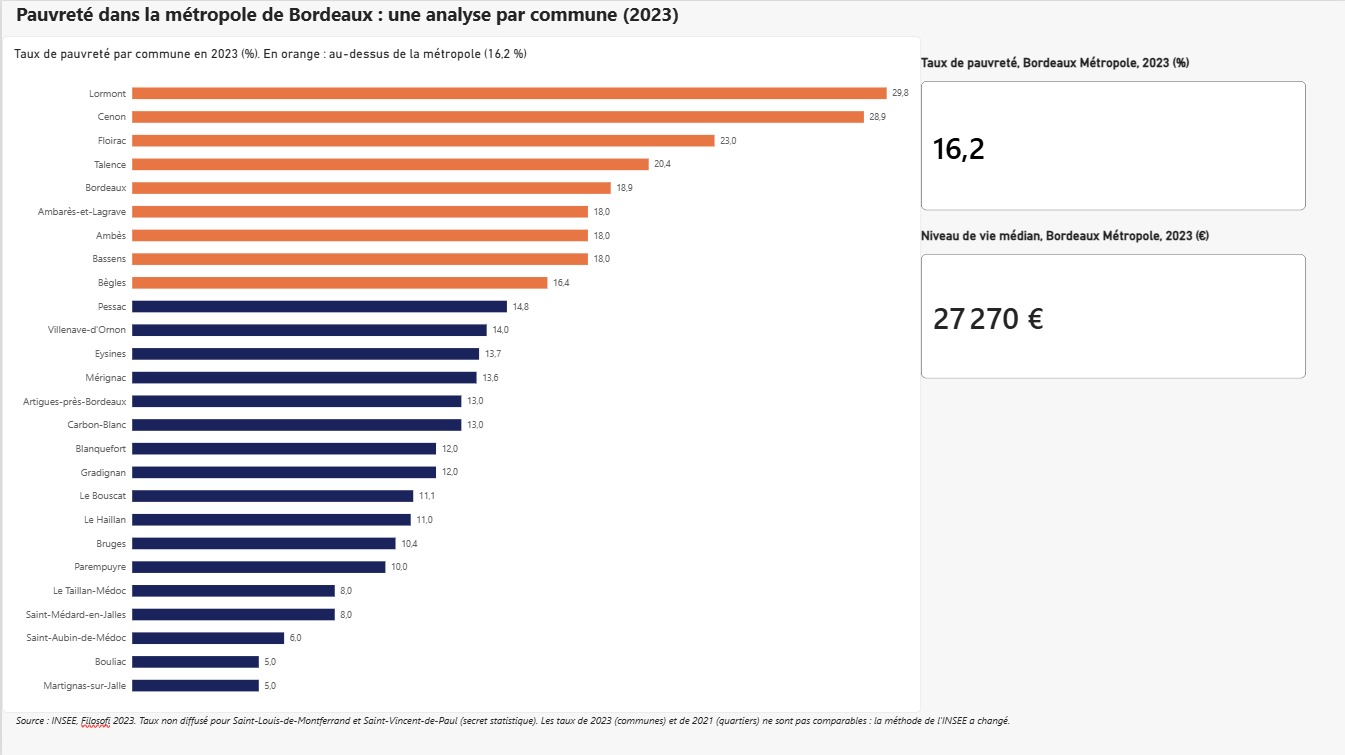

This screenshot's page, from the dashboard's own definition file:
{"tool":"powerbi","page":{"name":"vue d'ensemble","canvas":[1920,1080],"ordinal":0},"visuals":[{"type":"clusteredBarChart","title":"Taux de pauvreté par commune en 2023 (%). En orange : au-dessus de la métropole (16,2 %)","fields":{"Category":["Communes_2023.Commune"],"Y":["Communes_2023.Taux de pauvreté (%)"]},"box":[0,50,1312.9,967.1],"z":0},{"type":"textbox","box":[20,1017.1,1451.4,42.9],"z":1000},{"type":"cardVisual","title":"Taux de pauvreté, Bordeaux Métropole, 2023 (%)","fields":{"Data":["Metropole_2023.Taux métropole(%)"]},"box":[1312.5,77.5,550,222.5],"z":2000},{"type":"cardVisual","title":"Niveau de vie médian, Bordeaux Métropole, 2023 (€)","fields":{"Data":["Metropole_2023.Niveau de vie métropole (€)"]},"box":[1312.5,325,550,215],"z":3000},{"type":"textbox","box":[20,0,1738.6,65.7],"z":4000}]}

Visuals, with their boxes in screenshot pixels (x1, y1, x2, y2), scaled from the page's 1920x1080 canvas onto the 1345x755 screenshot:
"Taux de pauvreté par commune en 2023 (%). En orange : au-dessus de la métropole (16,2 %)" clusteredBarChart: (0, 35, 920, 711)
textbox: (14, 711, 1031, 741)
"Taux de pauvreté, Bordeaux Métropole, 2023 (%)" cardVisual: (919, 54, 1305, 210)
"Niveau de vie médian, Bordeaux Métropole, 2023 (€)" cardVisual: (919, 227, 1305, 378)
textbox: (14, 0, 1232, 46)
